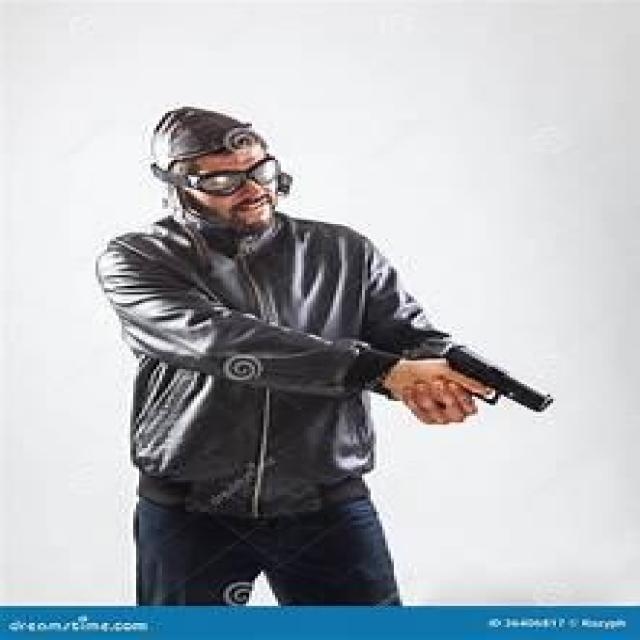Handgun: (416, 338, 560, 438)
